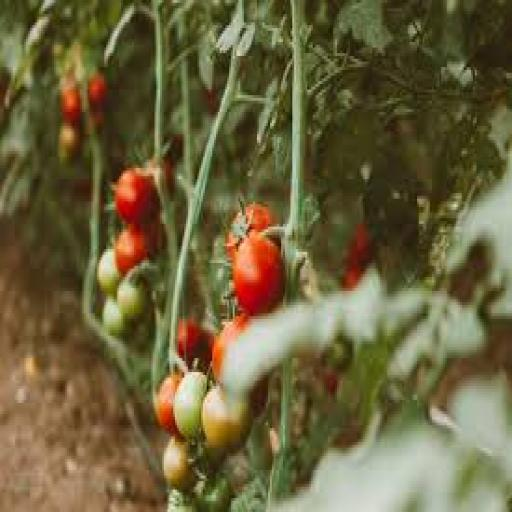tomato: (233, 233, 284, 316), (202, 387, 251, 450), (226, 205, 275, 260), (213, 314, 249, 380), (116, 168, 156, 223), (174, 373, 206, 439), (341, 224, 372, 290), (177, 319, 212, 369), (155, 373, 182, 436), (162, 437, 193, 489), (116, 227, 148, 274), (347, 224, 372, 271), (200, 476, 232, 511), (118, 280, 145, 321), (97, 250, 121, 293), (60, 84, 81, 125), (103, 297, 124, 335), (60, 124, 80, 162), (250, 378, 269, 416), (88, 73, 107, 109), (341, 266, 364, 290), (162, 157, 175, 193), (321, 370, 338, 397), (205, 90, 219, 117)
